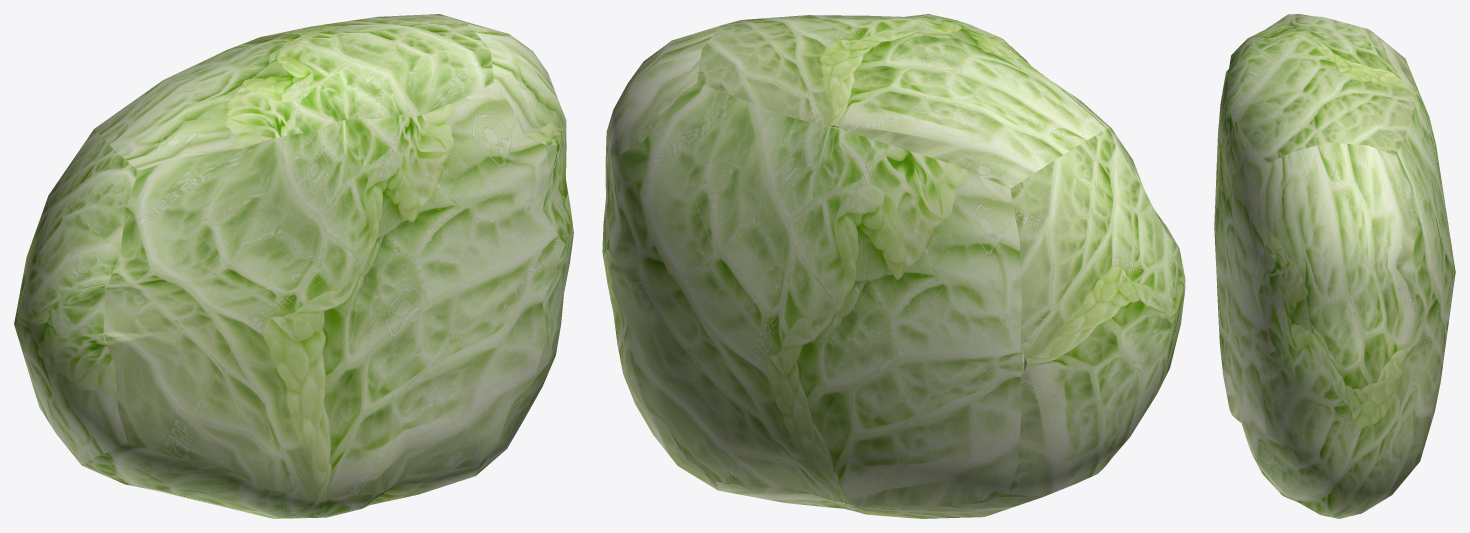
Rendered from kyabetu3.FBX.
3 renders of one model, left to right at view 1: azimuth 30°, elevation 25°; view 2: azimuth 150°, elevation 25°; view 3: azimuth 270°, elevation 25°, orthographic. The views are drawn at different scales.
Parts seen in each view (by area): view 1: Box001; view 2: Box001; view 3: Box001.
Part boxes in pixels (x1=…): Box001: x1=14, y1=14, x2=573, y2=518; Box001: x1=602, y1=14, x2=1185, y2=518; Box001: x1=1214, y1=14, x2=1455, y2=518.
Bounding box in the file's own units: 22.06 × 9.87 × 18.57.
Materials: 1 (1 with a texture image).
